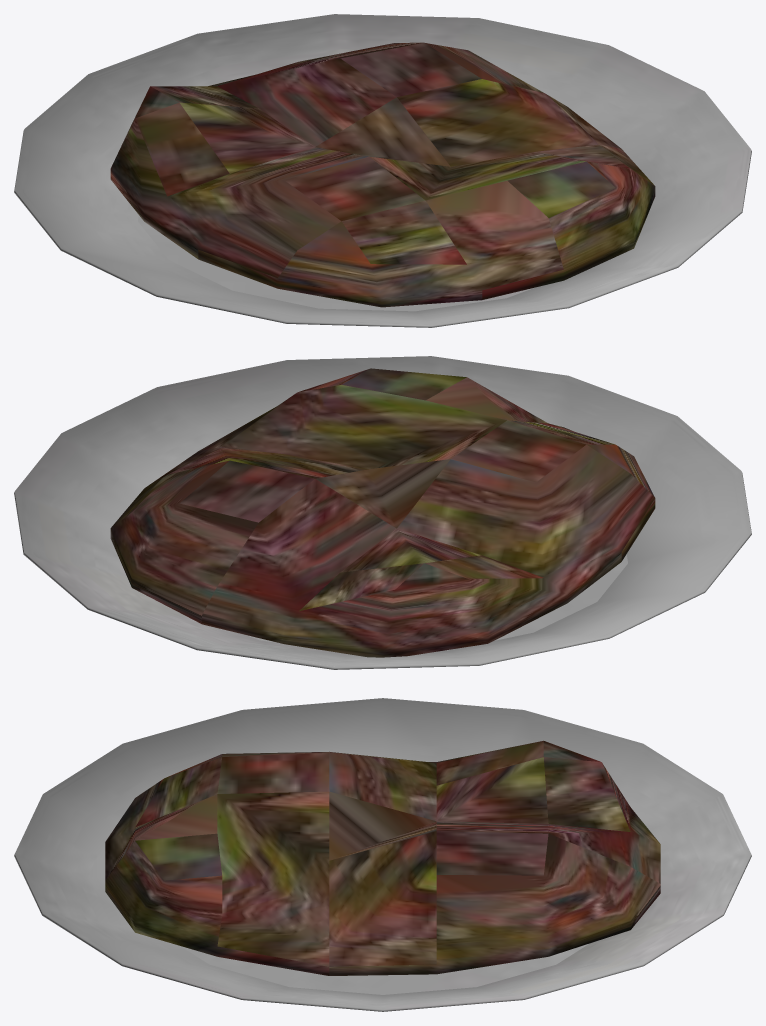
The model's file is roten_plate.fbx.
3 views of the same model, one above another, from view 1: azimuth 30°, elevation 25°; view 2: azimuth 150°, elevation 25°; view 3: azimuth 270°, elevation 25° (orthographic).
Parts seen in each view (by area): view 1: SM_RottenFood; view 2: SM_RottenFood; view 3: SM_RottenFood.
Part boxes in pixels (left/top/right/bottom): SM_RottenFood: left=14, top=14, right=751, bottom=327; SM_RottenFood: left=14, top=356, right=751, bottom=669; SM_RottenFood: left=14, top=698, right=751, bottom=1011.
Size of the model in its own units: 21.77 by 2.67 by 21.77.
